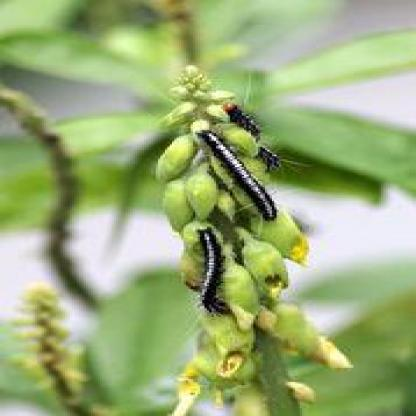armyworm: (191, 126, 279, 221), (216, 100, 284, 176), (190, 228, 232, 317)
